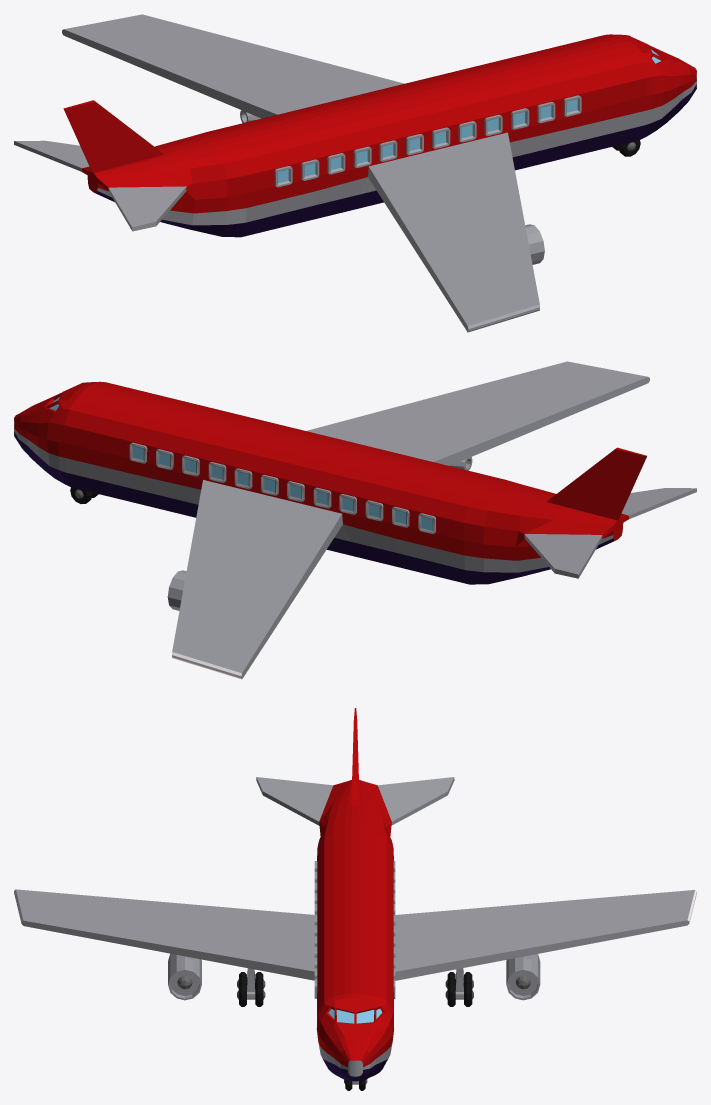
3 views of the same model, one above another, from view 1: azimuth 30°, elevation 25°; view 2: azimuth 150°, elevation 25°; view 3: azimuth 270°, elevation 25° (orthographic). The views are drawn at different scales.
Visible parts, largest first — view 1: Plane; view 2: Plane; view 3: Plane.
Part boxes in pixels (x1,y1,x2,y2): Plane: (14,14,696,332); Plane: (14,361,696,679); Plane: (14,708,696,1090).
Size of the model in its own units: 7324 by 2018 by 8193.
